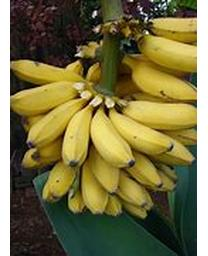banana: (11, 74, 194, 220)
